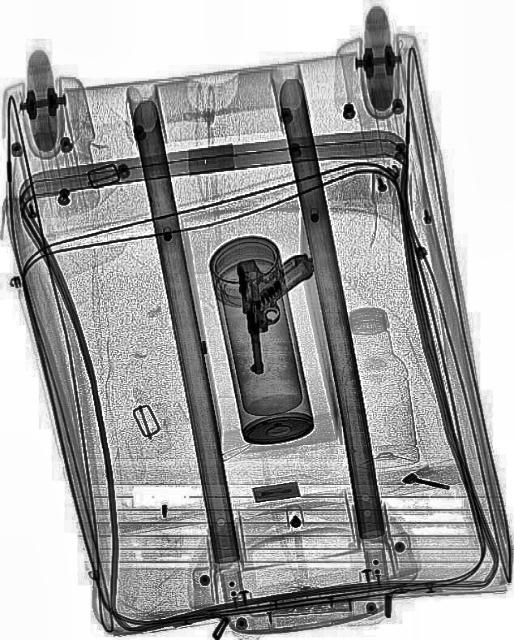Gun: (236, 248, 326, 374)
